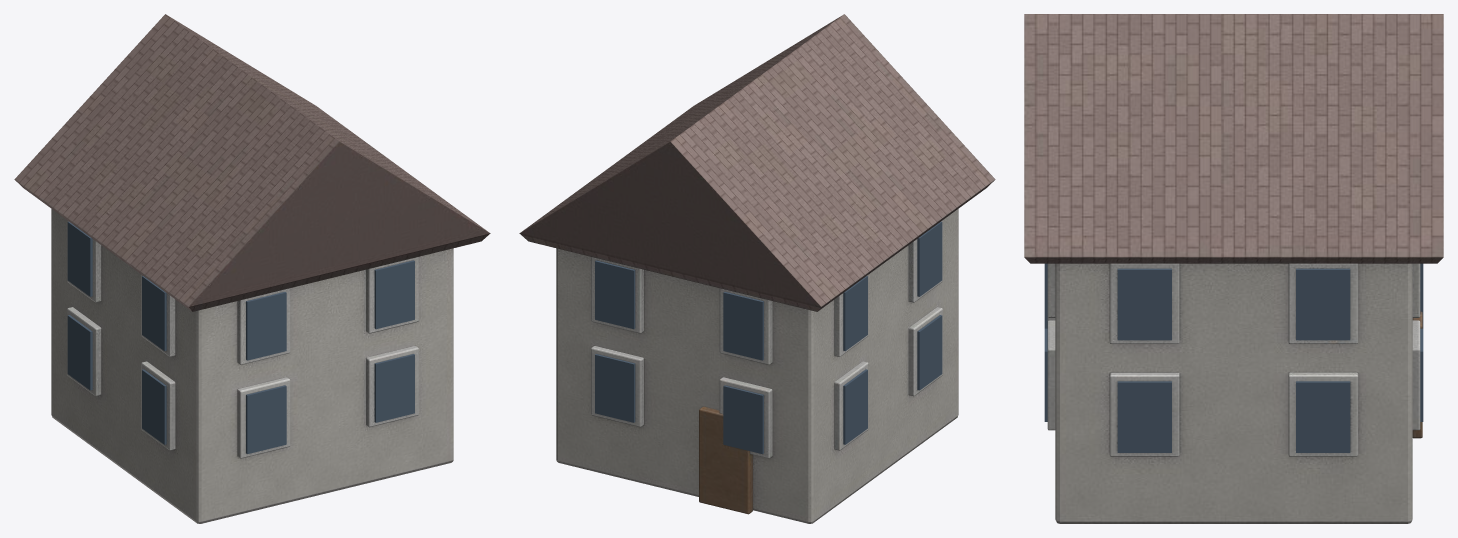
File: reihe_geschichte.glb
The picture shows the model from 3 angles, left to right: view 1: azimuth 30°, elevation 25°; view 2: azimuth 150°, elevation 25°; view 3: azimuth 270°, elevation 25°; orthographic projection. The views are drawn at different scales.
Parts seen in each view (by area): view 1: reihe_geschichte, reihe_geschichte_details; view 2: reihe_geschichte, reihe_geschichte_details; view 3: reihe_geschichte, reihe_geschichte_details.
Part boxes in pixels (bbox=[...]): reihe_geschichte: bbox=[14, 14, 490, 523]; reihe_geschichte_details: bbox=[67, 221, 414, 453]; reihe_geschichte: bbox=[519, 14, 995, 523]; reihe_geschichte_details: bbox=[595, 221, 942, 453]; reihe_geschichte: bbox=[1024, 14, 1443, 523]; reihe_geschichte_details: bbox=[1044, 263, 1423, 452].
Size of the model in its own units: 0.54 by 0.62 by 0.54.
2 materials, 1 textured.
